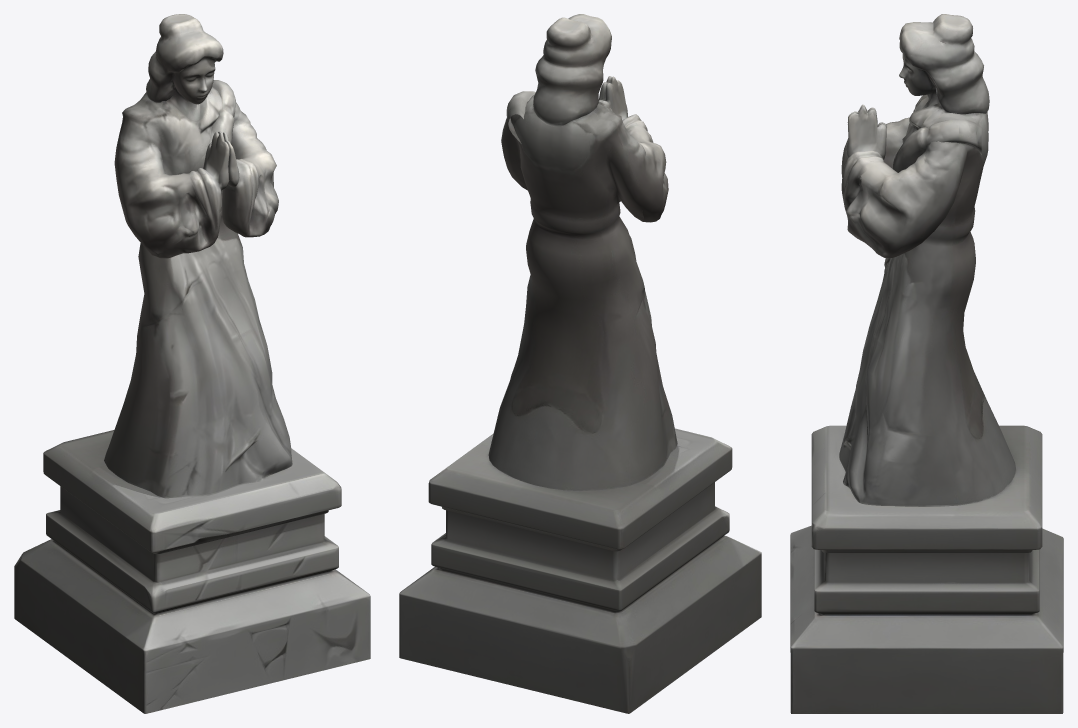
File: statue_atia.glb
3 views of the same model, side by side, from view 1: azimuth 30°, elevation 25°; view 2: azimuth 150°, elevation 25°; view 3: azimuth 270°, elevation 25° (orthographic). The views are drawn at different scales.
Visible parts, largest first — view 1: tripo_node_56f31b27-f8e4-48f9-a4fe-5ef07675b301; view 2: tripo_node_56f31b27-f8e4-48f9-a4fe-5ef07675b301; view 3: tripo_node_56f31b27-f8e4-48f9-a4fe-5ef07675b301.
Boxes of the visible parts, x1,y1,x2,y2 form: tripo_node_56f31b27-f8e4-48f9-a4fe-5ef07675b301: (14, 14, 370, 713); tripo_node_56f31b27-f8e4-48f9-a4fe-5ef07675b301: (399, 14, 761, 713); tripo_node_56f31b27-f8e4-48f9-a4fe-5ef07675b301: (790, 14, 1063, 713).
Size of the model in its own units: 0.3882 by 0.9995 by 0.3882.
Materials: 1 (1 with a texture image).
